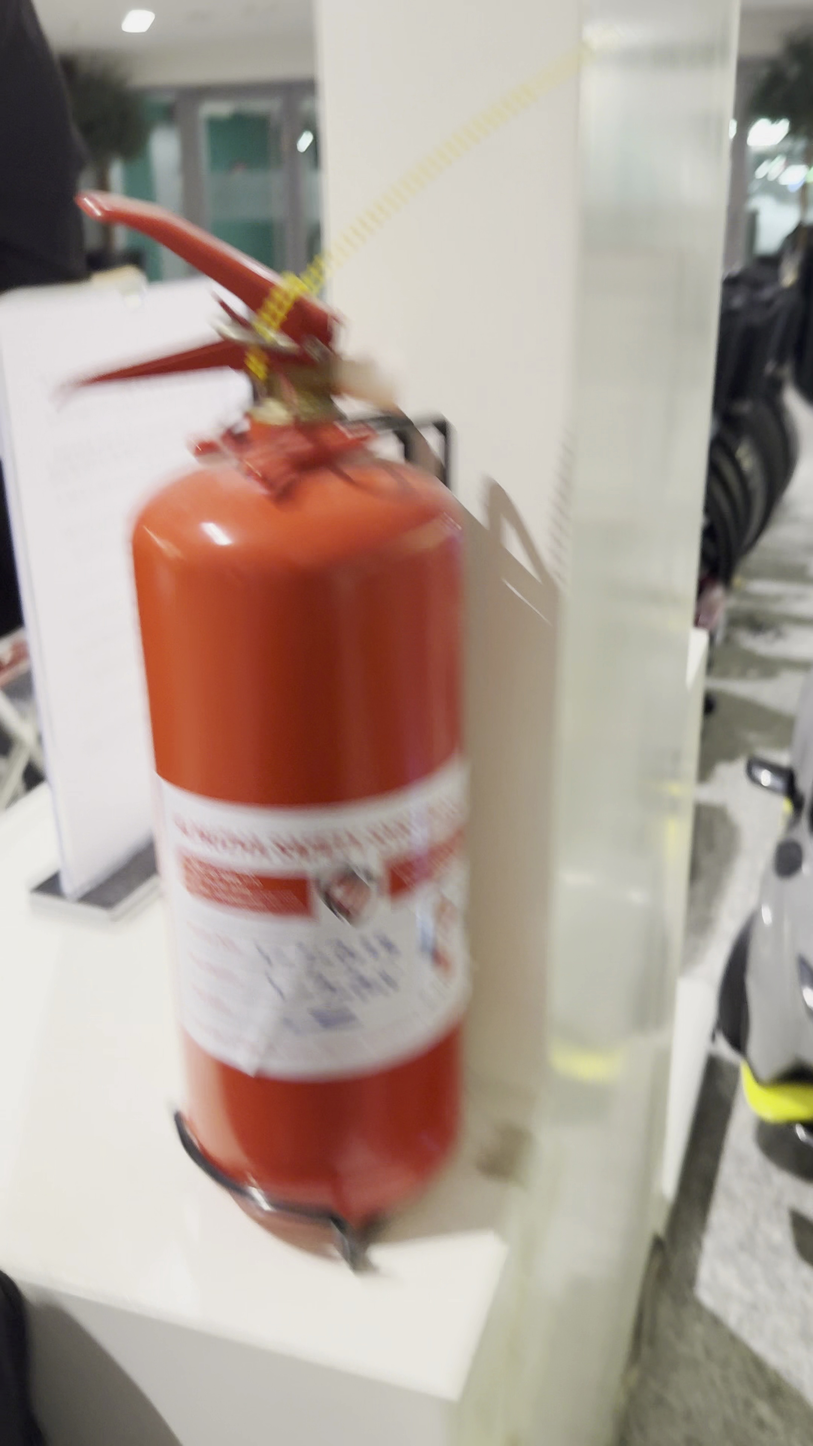fire_extinguisher: (68, 188, 476, 1273)
